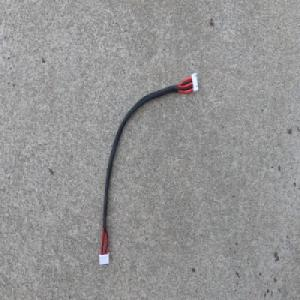Wire: (97, 70, 199, 269)
